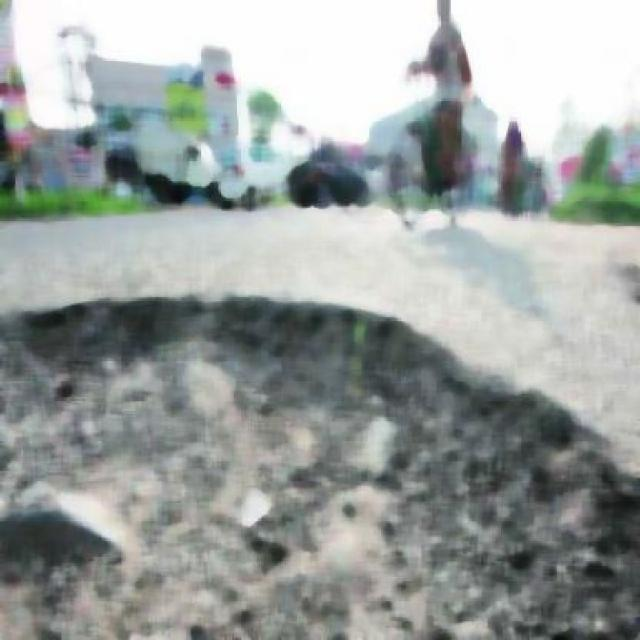Pothole: (22, 307, 536, 638)
